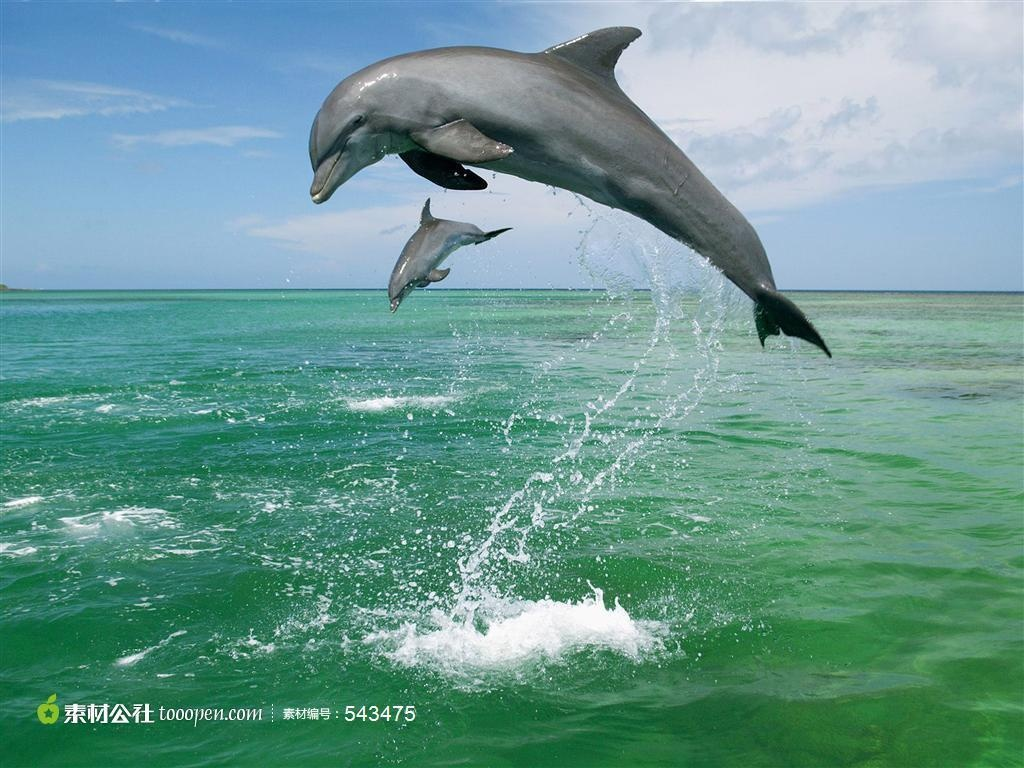fish: (305, 17, 839, 360), (383, 195, 515, 317)
